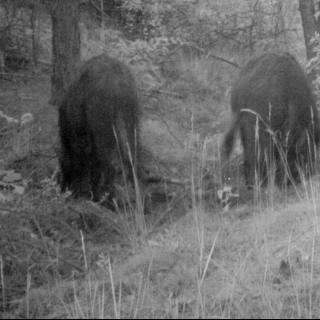Pig: (216, 23, 320, 229), (42, 45, 151, 224)
